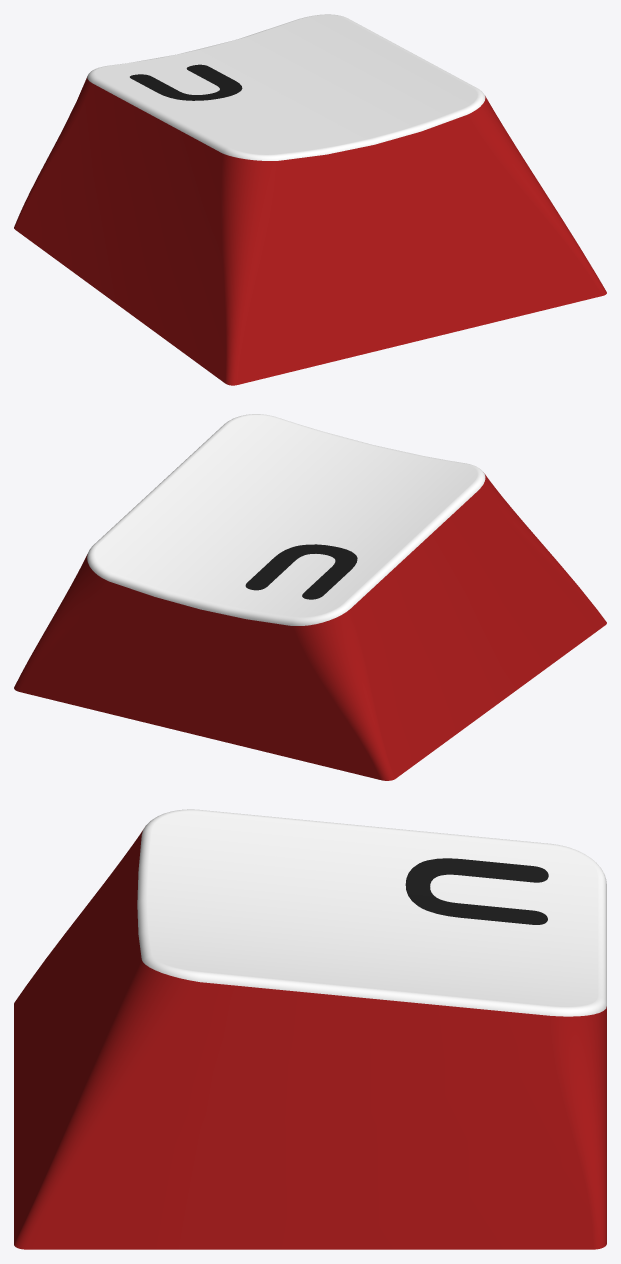
3 renders of one model, top to bottom at view 1: azimuth 30°, elevation 25°; view 2: azimuth 150°, elevation 25°; view 3: azimuth 270°, elevation 25°, orthographic. The views are drawn at different scales.
Visible parts, largest first — view 1: Body1; view 2: Body1; view 3: Body1.
Boxes of the visible parts, x1=… form: Body1: x1=14, y1=14, x2=606, y2=385; Body1: x1=14, y1=414, x2=606, y2=780; Body1: x1=14, y1=809, x2=606, y2=1249.
Size of the model in its own units: 18 by 7.85 by 18.
